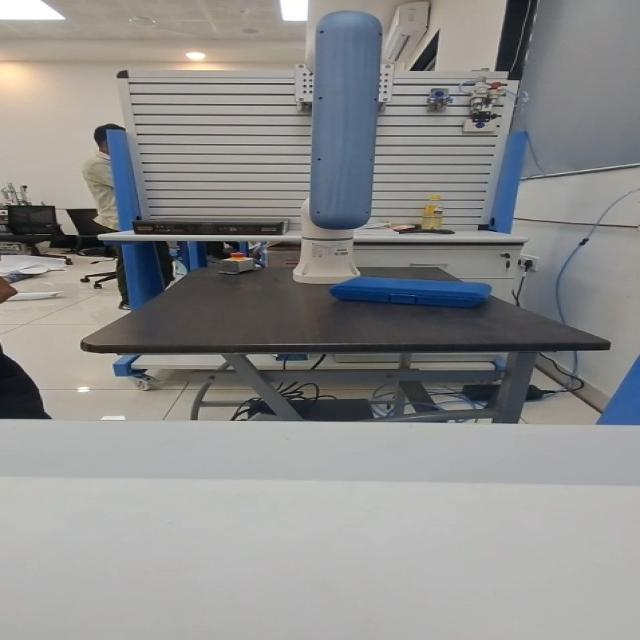top-surface: (357, 279, 478, 291)
